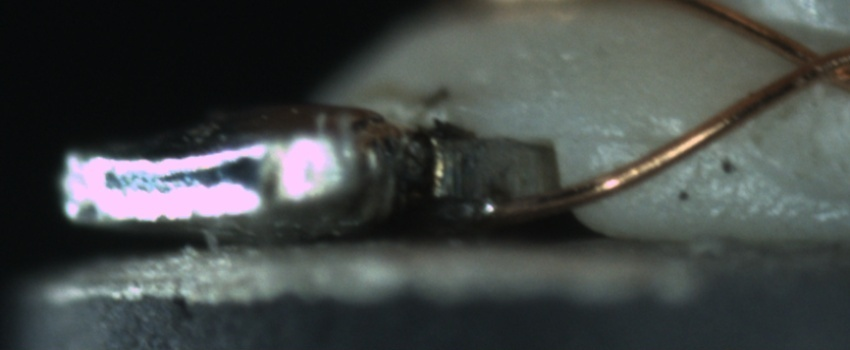CL: (777, 33, 847, 93)
DL: (588, 107, 710, 171)
